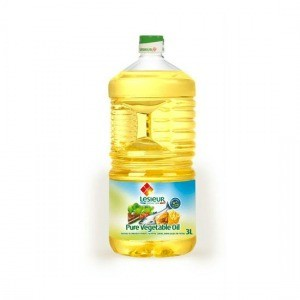vegetable oil_brain food: (106, 62, 199, 257)
